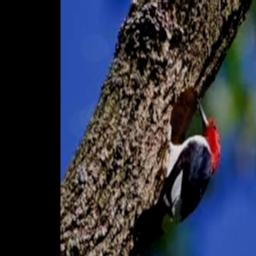Woodpecker: (132, 98, 220, 256)
